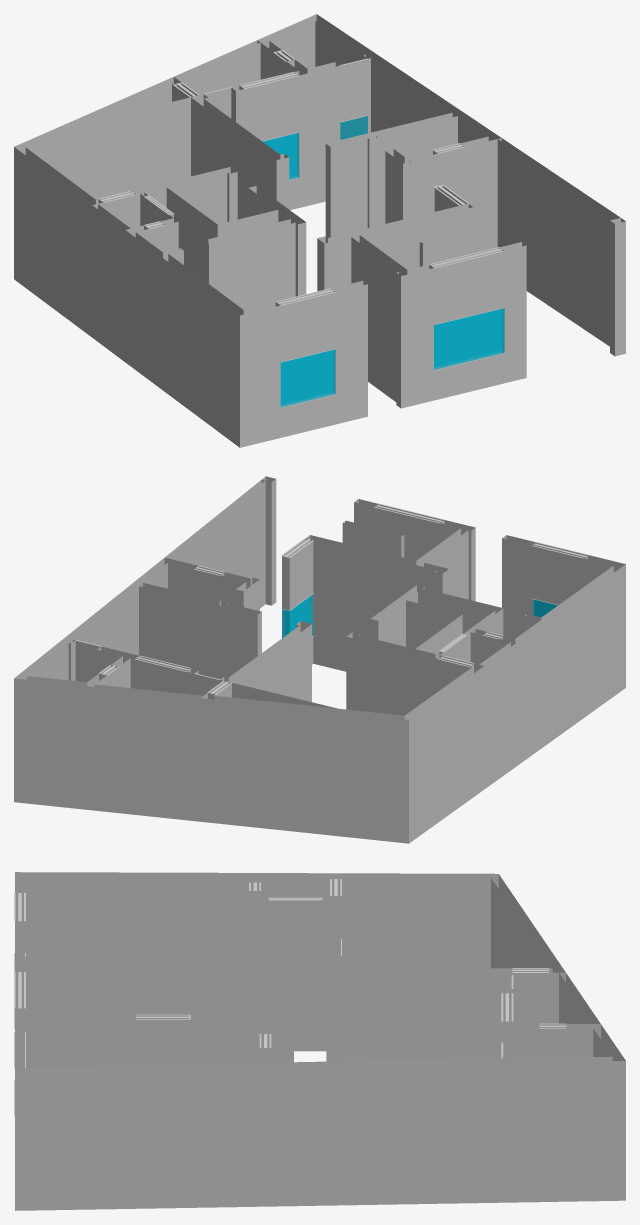
File: 6e0971de-4cb4-40c5-a109-b7c596f78e7d_no_roof.glb
3 views of the same model, one above another, from view 1: azimuth 30°, elevation 25°; view 2: azimuth 150°, elevation 25°; view 3: azimuth 270°, elevation 25° (orthographic). The views are drawn at different scales.
Visible parts, largest first — view 1: walls, windows; view 2: walls, windows; view 3: walls.
Part boxes in pixels (x1,y1,x2,y2): walls: (14, 14, 625, 447); windows: (263, 116, 504, 407); walls: (14, 476, 625, 843); windows: (282, 594, 557, 637); walls: (14, 872, 625, 1210).
Bounding box in the file's own units: 10.67 × 3.5 × 13.88.
